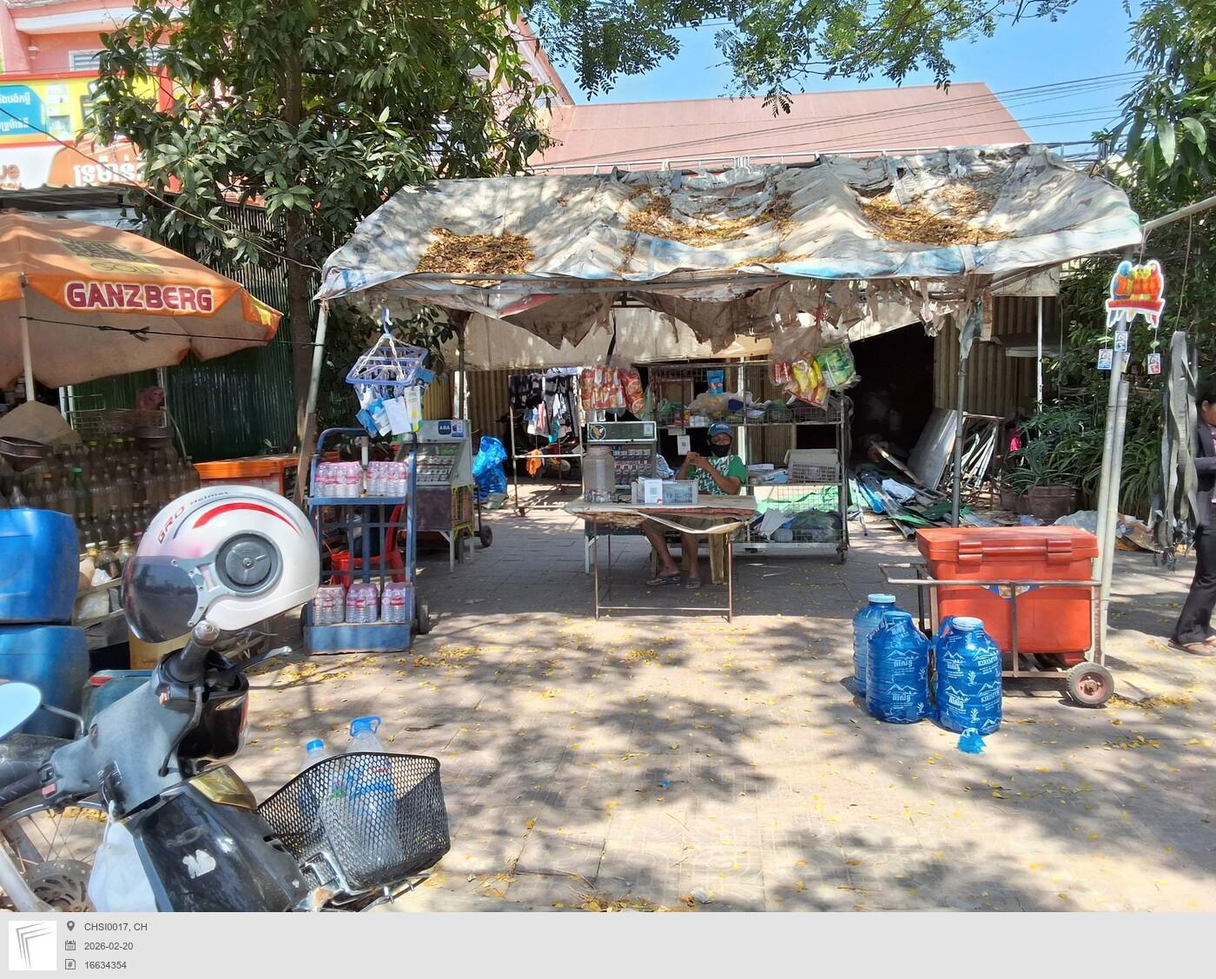cigarette_pack: (613, 462, 622, 477), (637, 459, 644, 474), (621, 464, 629, 477), (635, 448, 643, 460), (629, 464, 637, 476), (644, 460, 650, 475), (643, 449, 651, 460), (628, 449, 635, 460), (621, 450, 627, 460), (613, 451, 619, 460)
